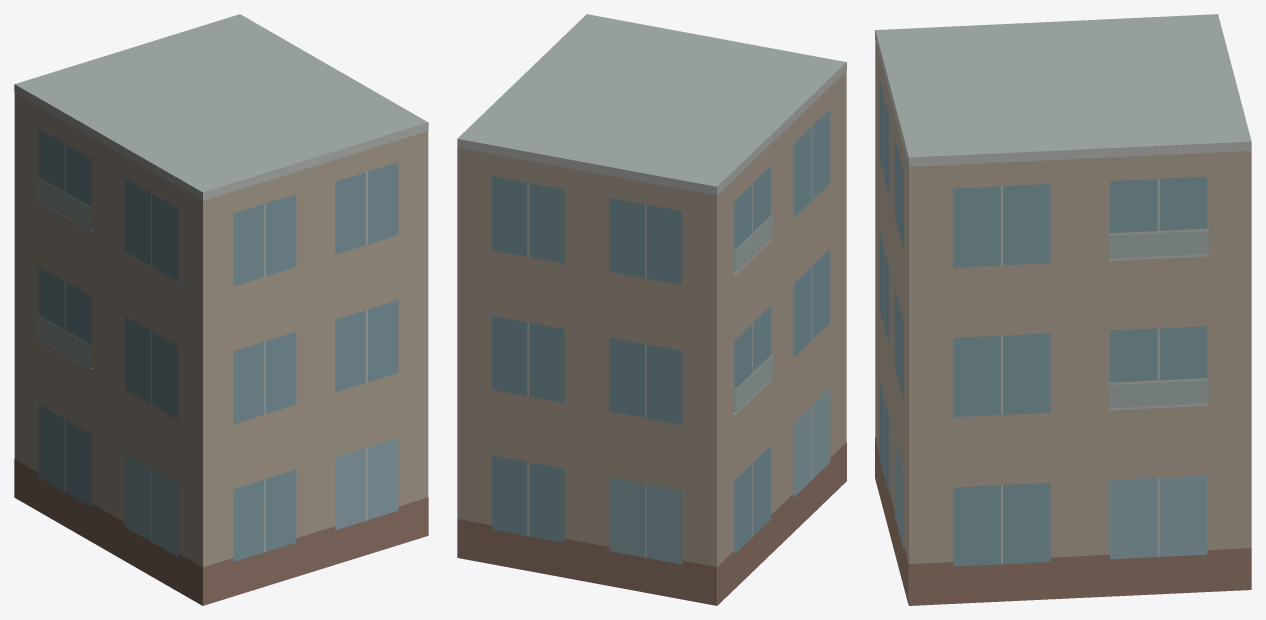
The model's file is survey-upis-32905547.glb.
The picture shows the model from 3 angles, left to right: view 1: azimuth 30°, elevation 25°; view 2: azimuth 150°, elevation 25°; view 3: azimuth 270°, elevation 25°; orthographic projection. The views are drawn at different scales.
Visible parts, largest first — view 1: survey-upis-32905547.tmp; view 2: survey-upis-32905547.tmp; view 3: survey-upis-32905547.tmp.
Boxes of the visible parts, x1,y1,x2,y2 form: survey-upis-32905547.tmp: (14,14,428,605); survey-upis-32905547.tmp: (457,14,846,605); survey-upis-32905547.tmp: (875,14,1251,605).
Bounding box in the file's own units: 8.11 × 11.8 × 8.99.
